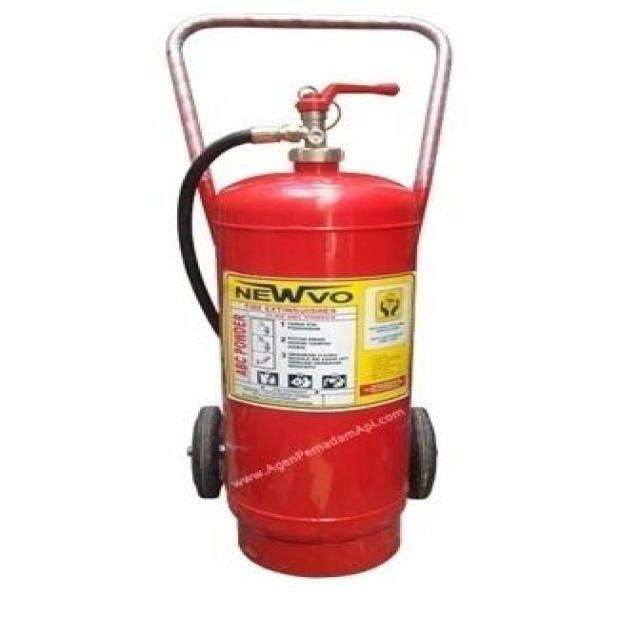fire_extinguisher: (166, 77, 424, 582)
